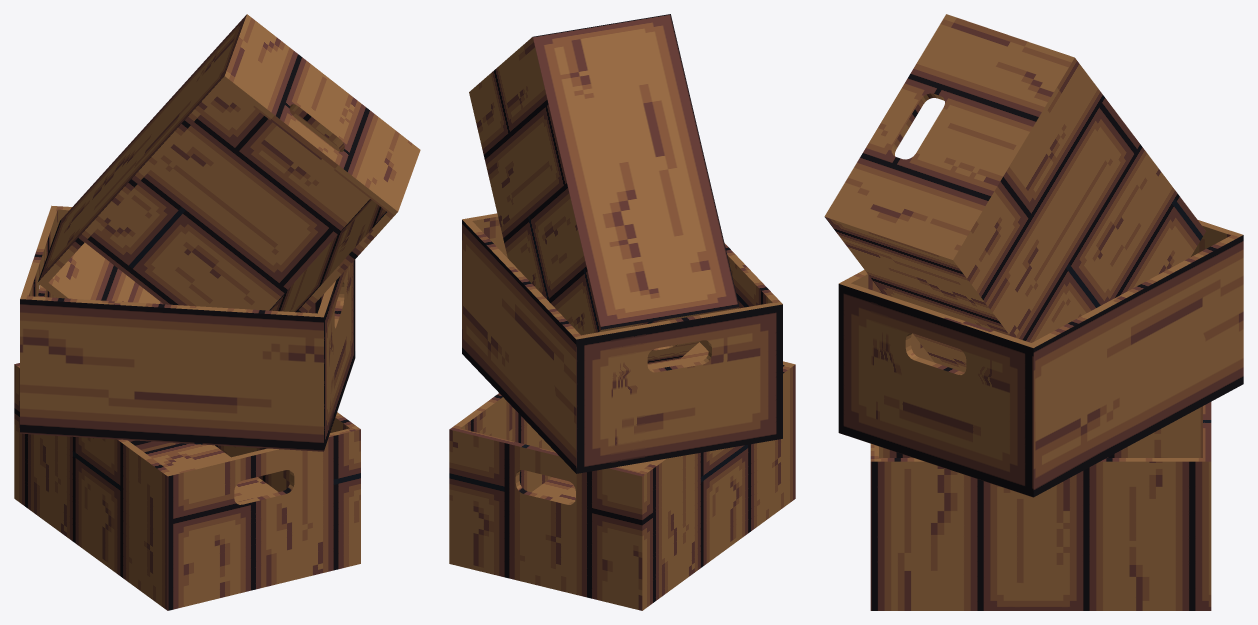
File: Caixa de maderapronta.fbx
3 views of the same model, side by side, from view 1: azimuth 30°, elevation 25°; view 2: azimuth 150°, elevation 25°; view 3: azimuth 270°, elevation 25° (orthographic). The views are drawn at different scales.
Visible parts, largest first — view 1: Cube.001, Cube.002, Cube; view 2: Cube.001, Cube.002, Cube; view 3: Cube.001, Cube.002, Cube.
Boxes of the visible parts, box(x1,y1,x2,y2) form: Cube.001: box(37, 14, 420, 312); Cube.002: box(20, 205, 355, 451); Cube: box(14, 363, 360, 610); Cube.001: box(469, 14, 739, 363); Cube.002: box(462, 213, 782, 473); Cube: box(449, 361, 795, 610); Cube.001: box(824, 14, 1205, 372); Cube.002: box(838, 220, 1243, 497); Cube: box(870, 402, 1211, 610).
Bounding box in the file's own units: 556 × 726 × 509.
Materials: 1 (1 with a texture image).
